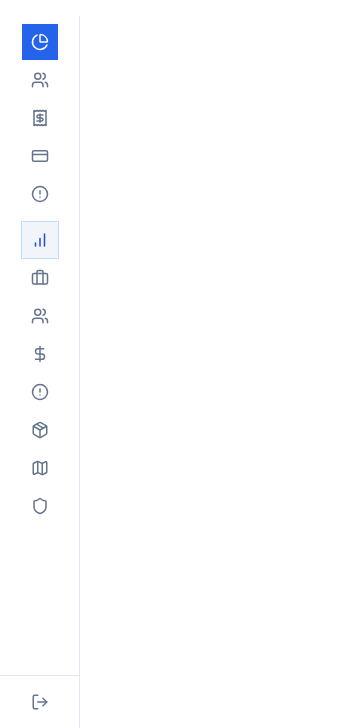
Sidebar › opens flyout from collapsed payments icon
Click the button titled "Payments": {"x": 40, "y": 354} x1=22 y1=336 x2=58 y2=372
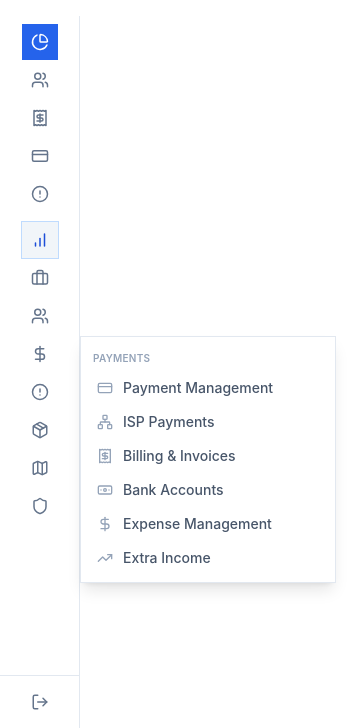
Expected: the text "Expense Management" is shown, x1=123 y1=514 x2=272 y2=534
